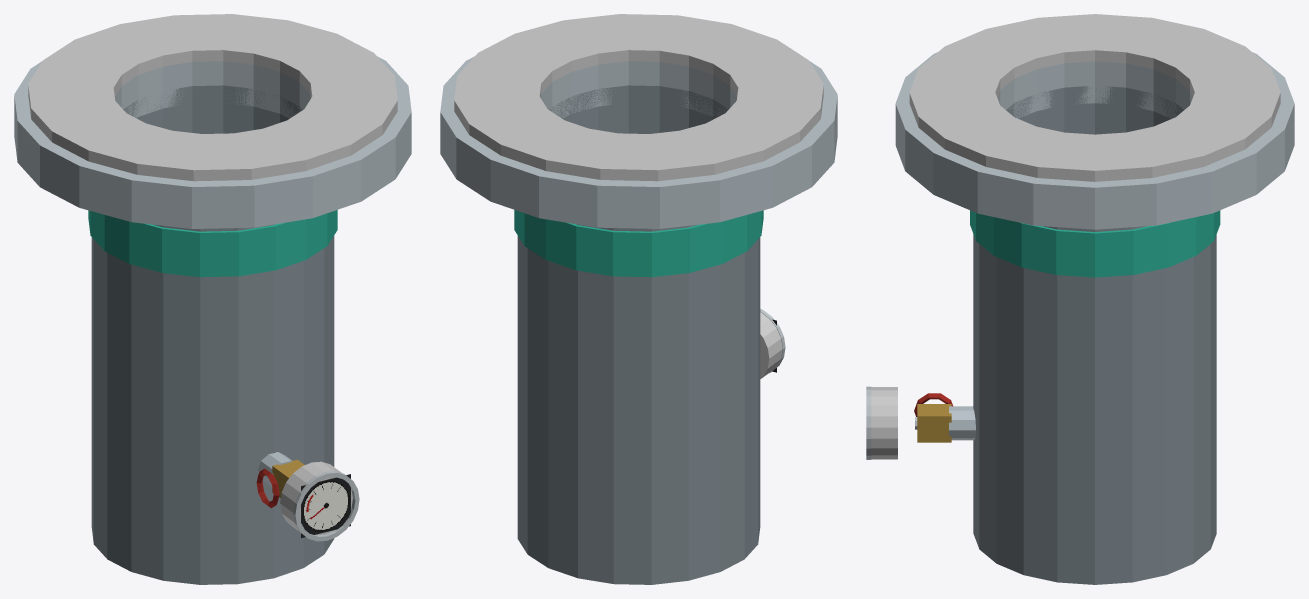
The model's file is cell_52.obj.
The picture shows the model from 3 angles, left to right: view 1: azimuth 30°, elevation 25°; view 2: azimuth 150°, elevation 25°; view 3: azimuth 270°, elevation 25°; orthographic projection.
Bounding box in the file's own units: 0.82 × 1 × 0.88.
